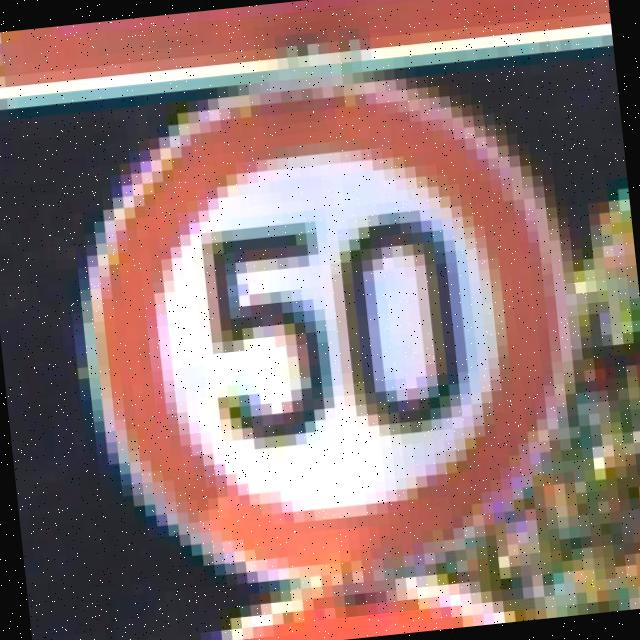Ograniczenie predkosci do 50: (70, 74, 590, 598)
